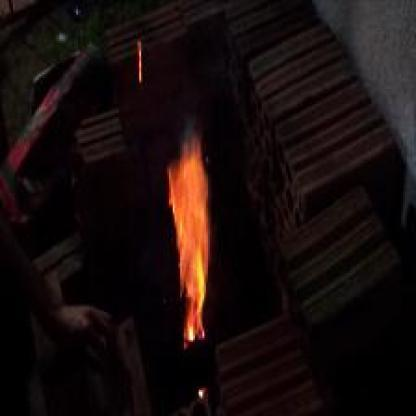fire: (157, 154, 225, 335)
